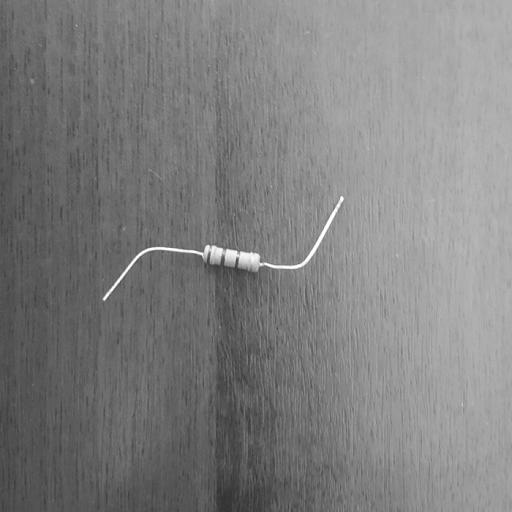RESISTOR: (181, 214, 307, 324)
